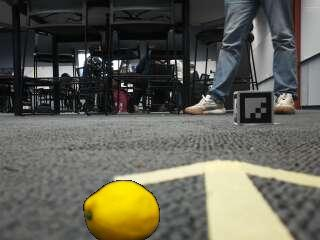lemon: (85, 183, 160, 240)
